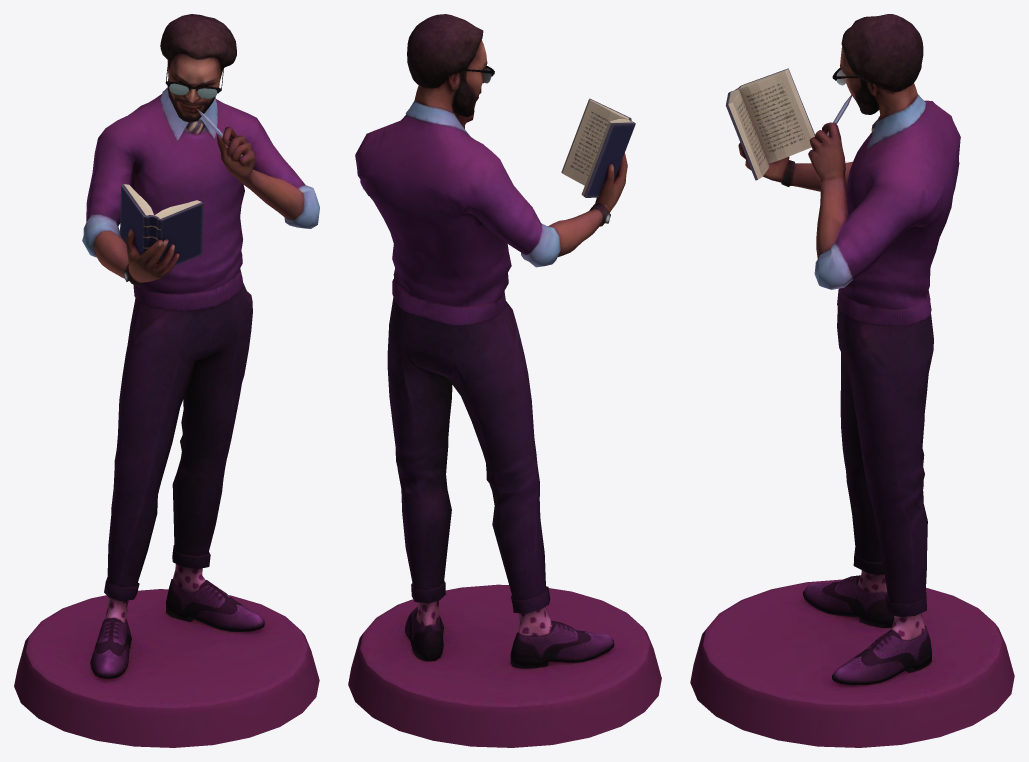
The model's file is violet_alt.obj.
3 views of the same model, side by side, from view 1: azimuth 30°, elevation 25°; view 2: azimuth 150°, elevation 25°; view 3: azimuth 270°, elevation 25° (orthographic). The views are drawn at different scales.
Parts seen in each view (by area): view 1: plumAlt_0; view 2: plumAlt_0; view 3: plumAlt_0.
Part boxes in pixels (x1,y1,x2,y2): plumAlt_0: (14, 14, 319, 747); plumAlt_0: (348, 14, 661, 747); plumAlt_0: (690, 14, 1014, 747).
Bounding box in the file's own units: 0.826 × 1.85 × 0.796.
